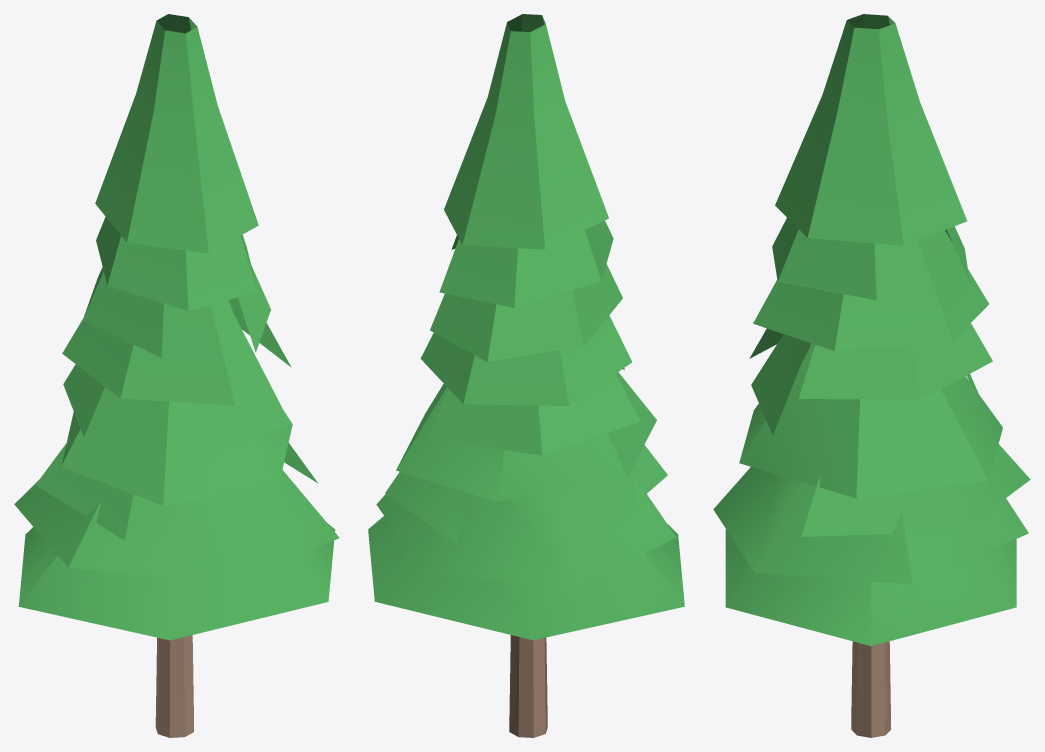
The model's file is pohon3.fbx.
3 views of the same model, side by side, from view 1: azimuth 30°, elevation 25°; view 2: azimuth 150°, elevation 25°; view 3: azimuth 270°, elevation 25° (orthographic).
Parts seen in each view (by area): view 1: Object_11.003; view 2: Object_11.003; view 3: Object_11.003.
Part boxes in pixels (box(x1,y1,x2,y2)): Object_11.003: box(14, 14, 339, 737); Object_11.003: box(368, 14, 684, 737); Object_11.003: box(713, 14, 1030, 737).
Size of the model in its own units: 1050 by 2236 by 908.
